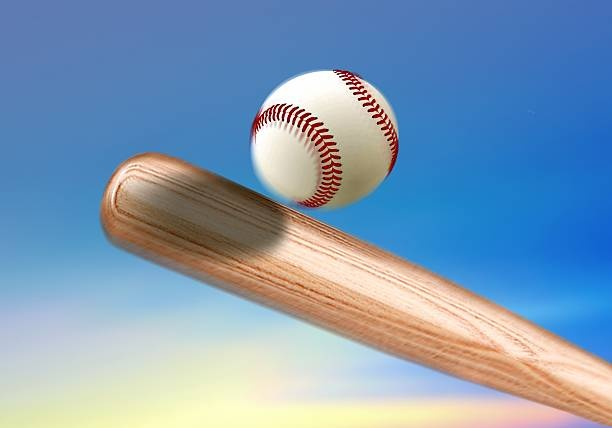bita: (96, 152, 612, 425)
